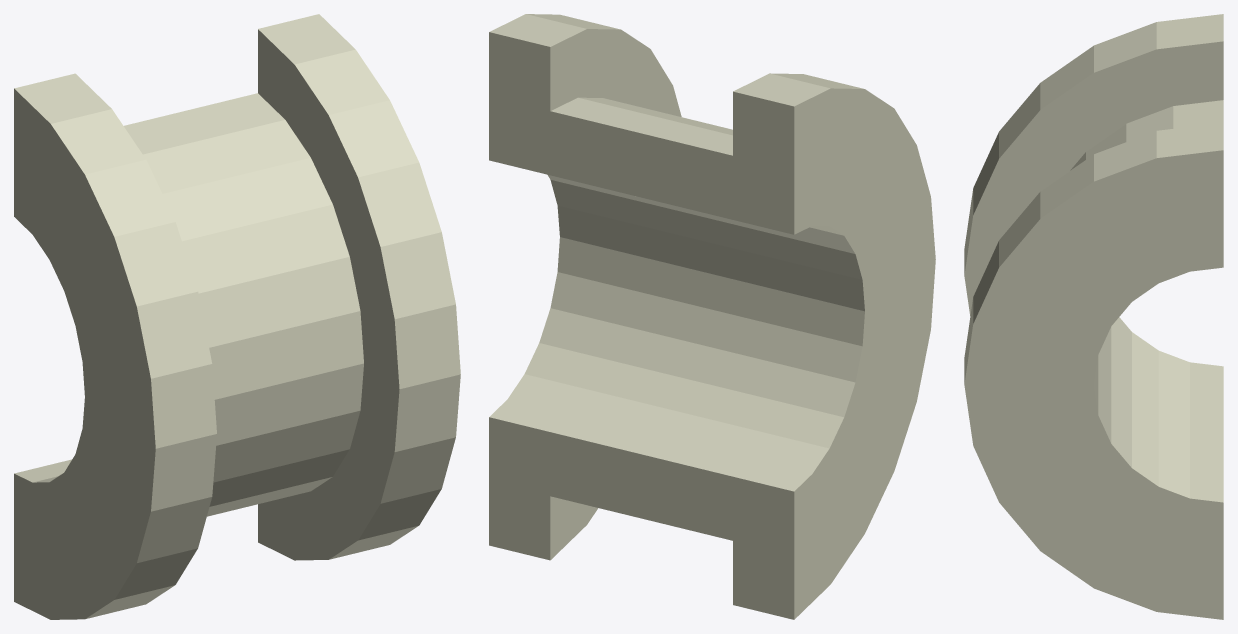
Rendered from section_144.obj.
3 views of the same model, side by side, from view 1: azimuth 30°, elevation 25°; view 2: azimuth 150°, elevation 25°; view 3: azimuth 270°, elevation 25° (orthographic). The views are drawn at different scales.
Size of the model in its own units: 4.97 by 8 by 4.
